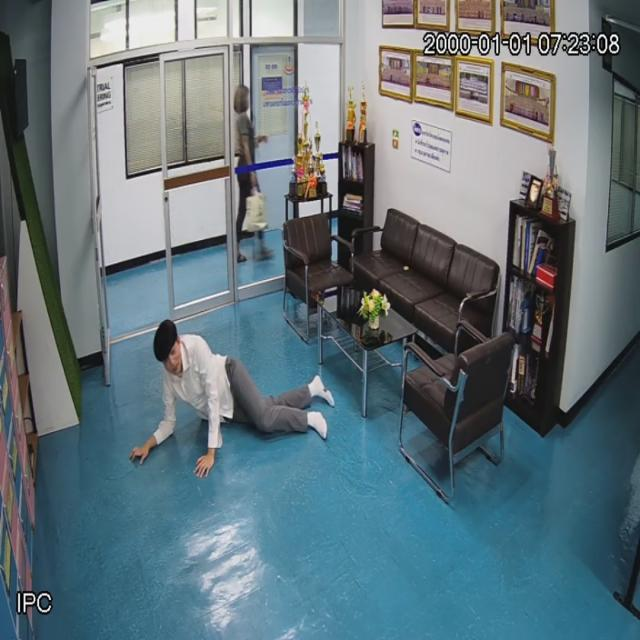fall: (145, 314, 339, 458)
normal: (223, 85, 276, 278)
